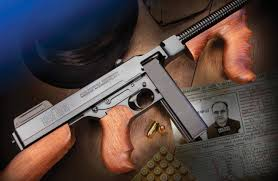gun: (86, 54, 214, 175)
